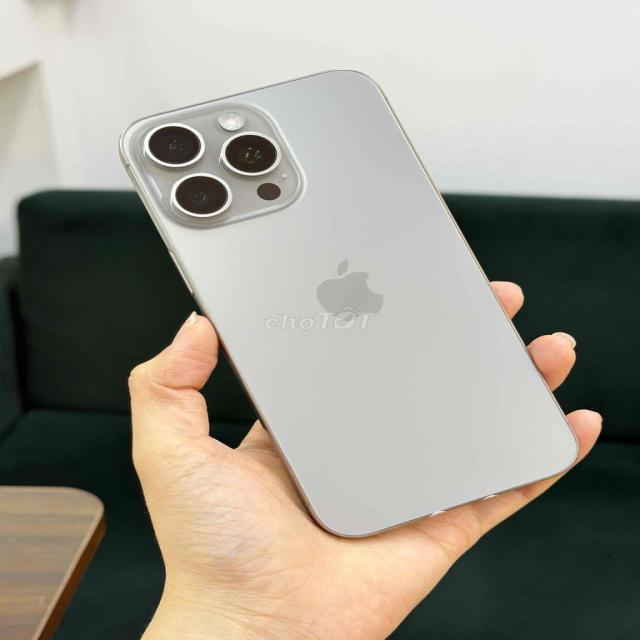gen_15: (93, 58, 583, 531)
